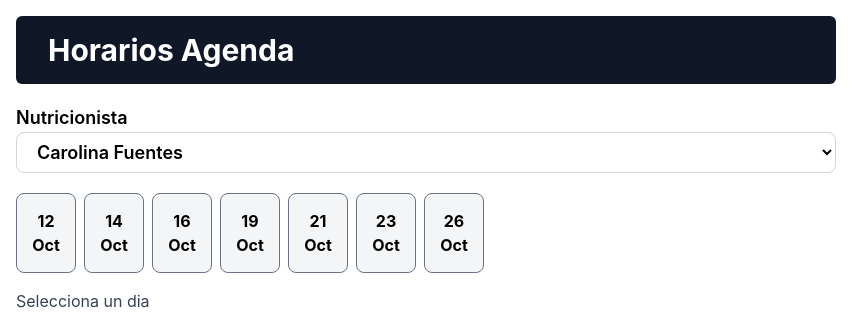
SecretarioHorario › permite cambiar de nutricionista y resetea la fecha seleccionada
Click the button "12 Oct" at (46, 233), box [16,193,76,273]
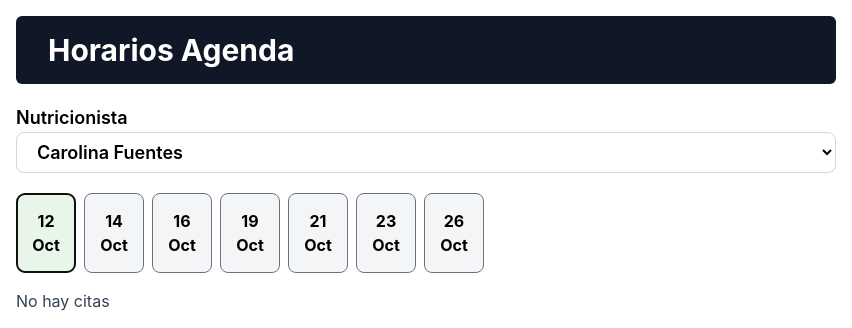
Check: the text "Selecciona un dia" is gone
Select "Rodrigo Sepulveda" in the dropdown labelled "Nutricionista" at (426, 152), box [16,132,836,173]
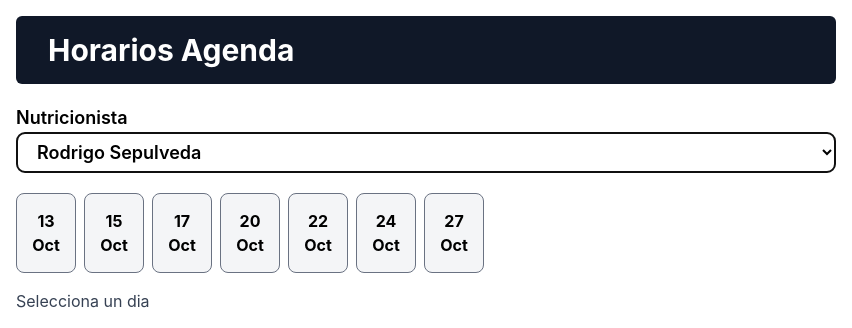
Check: the text "Selecciona un dia" is shown, box [16,291,150,311]
